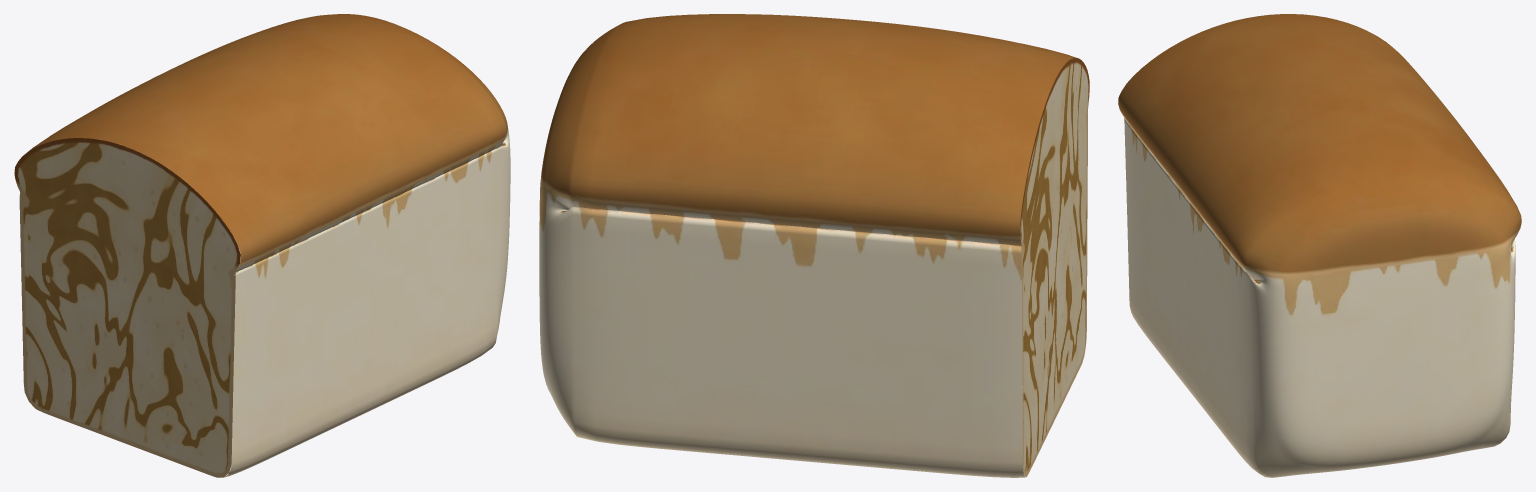
Rendered from loaf--honey-jam.glb.
The picture shows the model from 3 angles, left to right: view 1: azimuth 30°, elevation 25°; view 2: azimuth 150°, elevation 25°; view 3: azimuth 270°, elevation 25°; orthographic projection. The views are drawn at different scales.
Visible parts, largest first — view 1: loaf_honey-jam; view 2: loaf_honey-jam; view 3: loaf_honey-jam.
Part boxes in pixels (x1,y1,x2,y2): loaf_honey-jam: (14,14,510,477); loaf_honey-jam: (539,14,1089,477); loaf_honey-jam: (1118,14,1521,477).
Bounding box in the file's own units: 1.02 × 0.7199 × 0.8447.
1 material, 1 textured.
